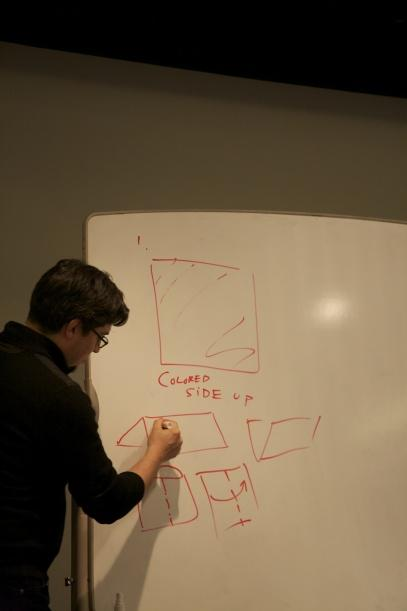Whiteboard: (71, 206, 406, 610)
